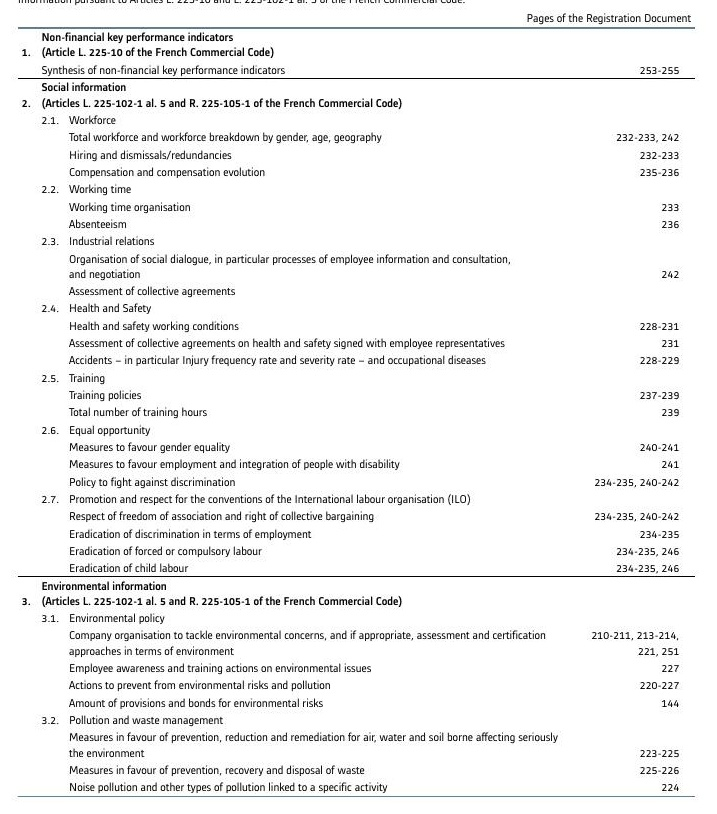table: (0, 0, 717, 814)
